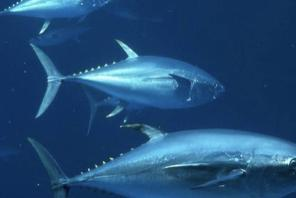Scombridae -Tunas-: (24, 119, 296, 198), (27, 34, 227, 118), (0, 0, 123, 49)
